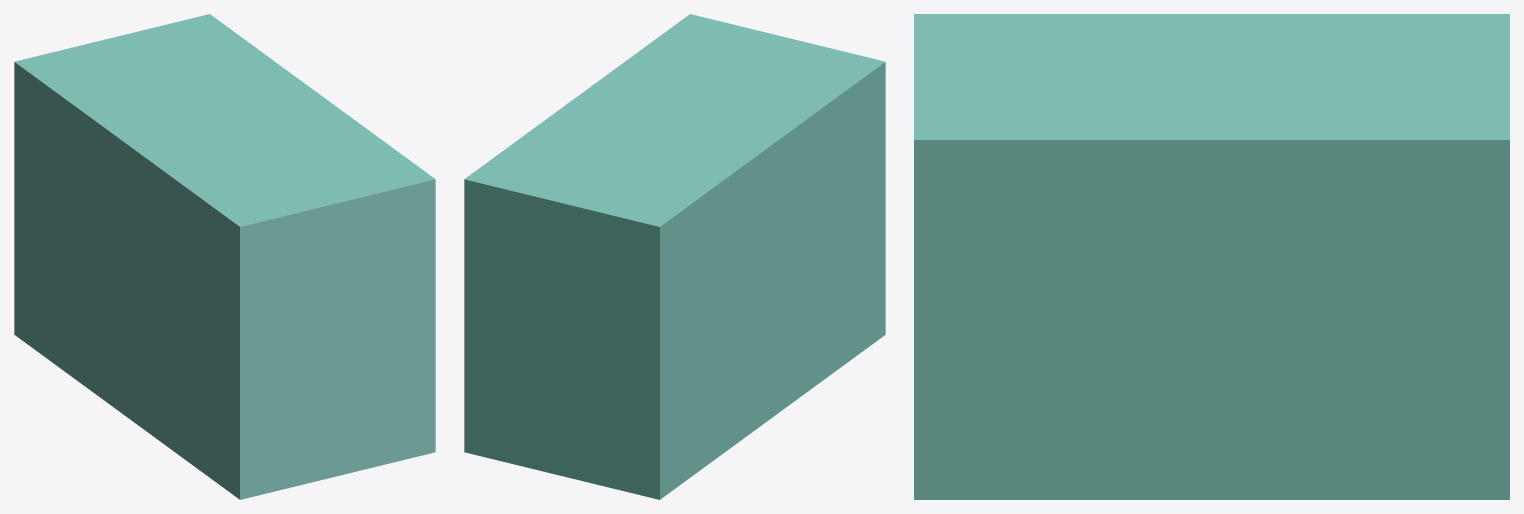
The model's file is squidgame_props_platform6_blue.fbx.
3 views of the same model, side by side, from view 1: azimuth 30°, elevation 25°; view 2: azimuth 150°, elevation 25°; view 3: azimuth 270°, elevation 25° (orthographic). The views are drawn at different scales.
Visible parts, largest first — view 1: squidgame_props_platform6_blue; view 2: squidgame_props_platform6_blue; view 3: squidgame_props_platform6_blue.
Boxes of the visible parts, bbox=[...] form: squidgame_props_platform6_blue: bbox=[14, 14, 435, 499]; squidgame_props_platform6_blue: bbox=[464, 14, 885, 499]; squidgame_props_platform6_blue: bbox=[914, 14, 1509, 499].
Size of the model in its own units: 0.75 by 1 by 1.5.
